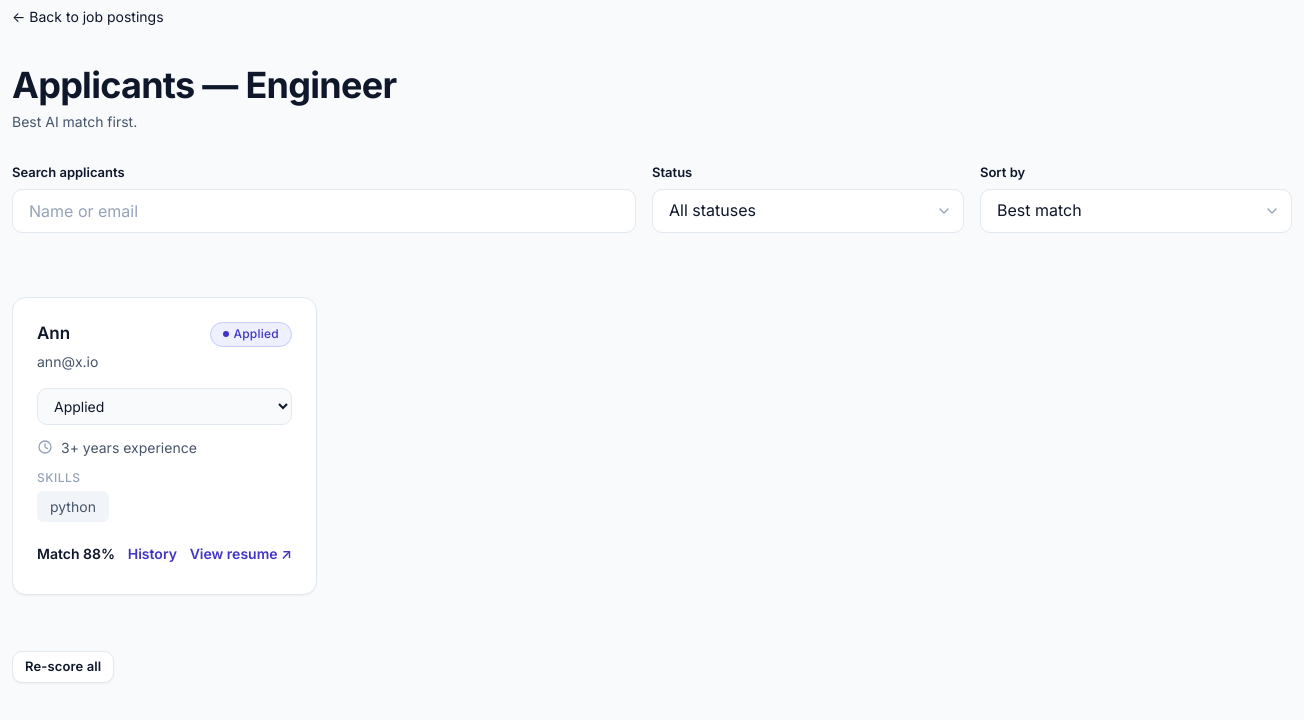
Test: JobApplicants › shows the server message when a transition is refused
The width and height of the screenshot is (1304, 720).
Select "Shortlisted" in the dropdown named "Pipeline status for Ann" at (164, 406), box [37,388,292,425]
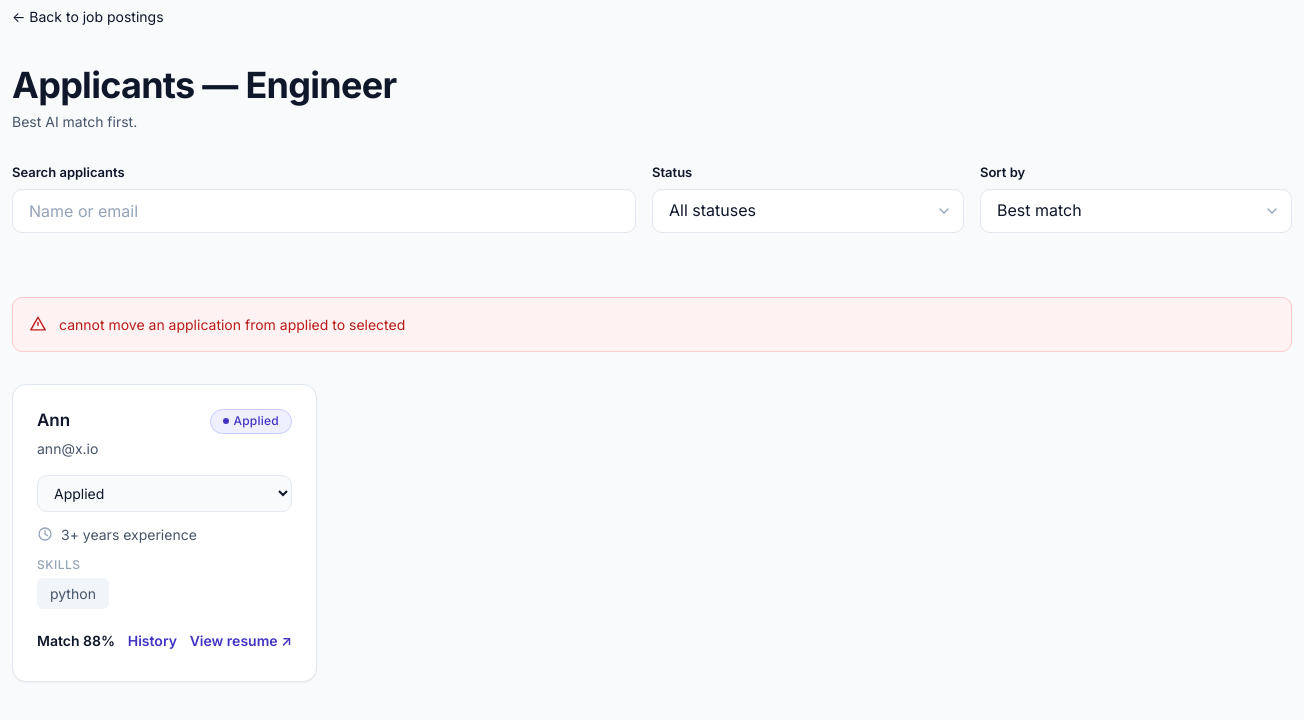
Expected: the text "cannot move an application from applied to selected" is shown, [59,314,405,335]
